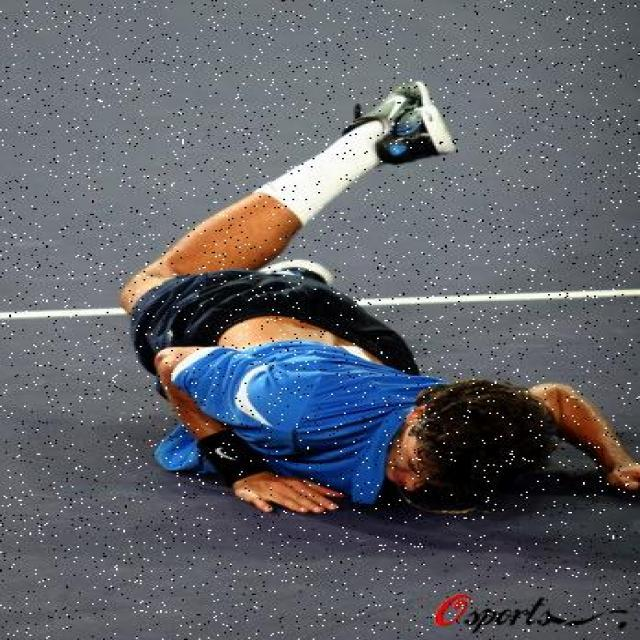fall: (118, 130, 618, 510)
